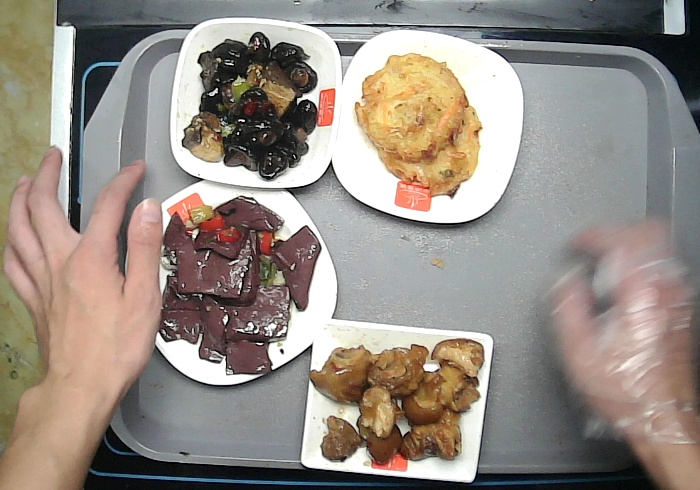SHKJ-Bai_Se_Cai_Die: (332, 30, 524, 224)
SHKJ-Bai_Se_Si_Fang_Cai_Die: (126, 179, 339, 386)
SHKJ-Bai_Se_Xiao_Fang_Die: (170, 18, 342, 189)
SHKJ-Si_Fang_Min: (301, 318, 494, 488)
